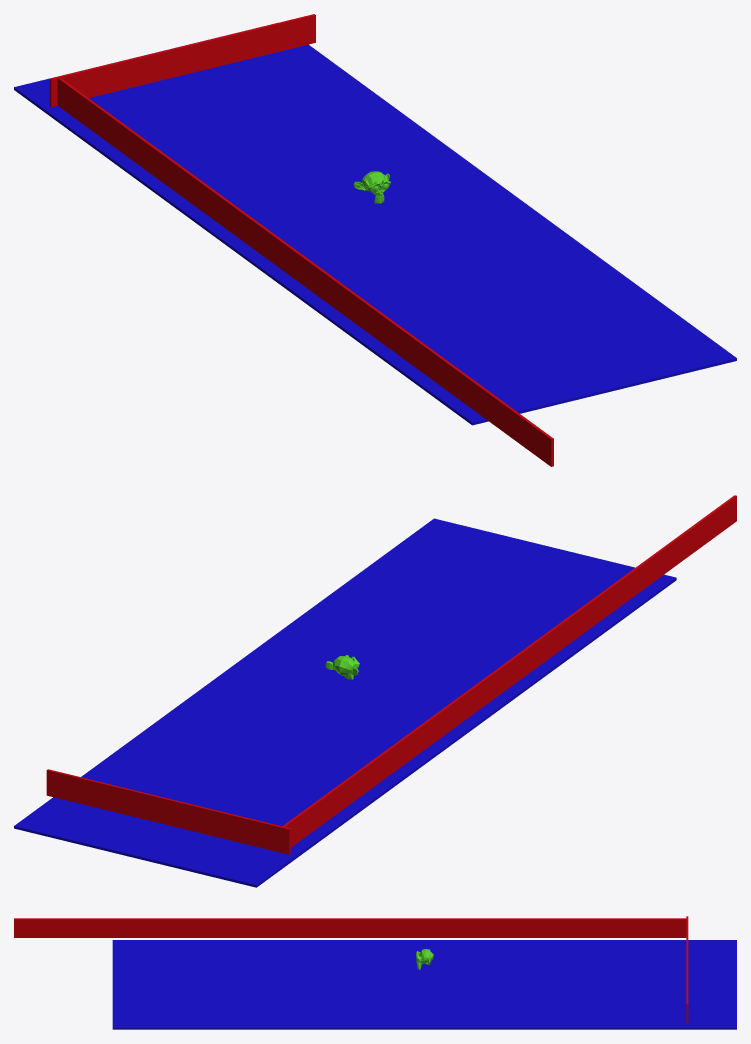
File: simpleScene.dae
3 views of the same model, one above another, from view 1: azimuth 30°, elevation 25°; view 2: azimuth 150°, elevation 25°; view 3: azimuth 270°, elevation 25° (orthographic). The views are drawn at different scales.
Parts seen in each view (by area): view 1: Cube, Cube_002, Cube_001; view 2: Cube, Cube_002, Cube_001; view 3: Cube, Cube_002, Cube_001, Suzanne.
Part boxes in pixels (box(x1,y1,x2,y2)): Cube: box(14, 44, 736, 425); Cube_002: box(57, 77, 553, 466); Cube_001: box(49, 14, 315, 107); Cube: box(14, 518, 676, 887); Cube_002: box(282, 495, 736, 847); Cube_001: box(46, 769, 290, 854); Cube: box(112, 940, 736, 1029); Cube_002: box(14, 918, 687, 937); Cube_001: box(686, 916, 688, 1022); Suzanne: box(416, 949, 433, 969).
Size of the model in its own units: 20 by 69.47 by 3.76.
